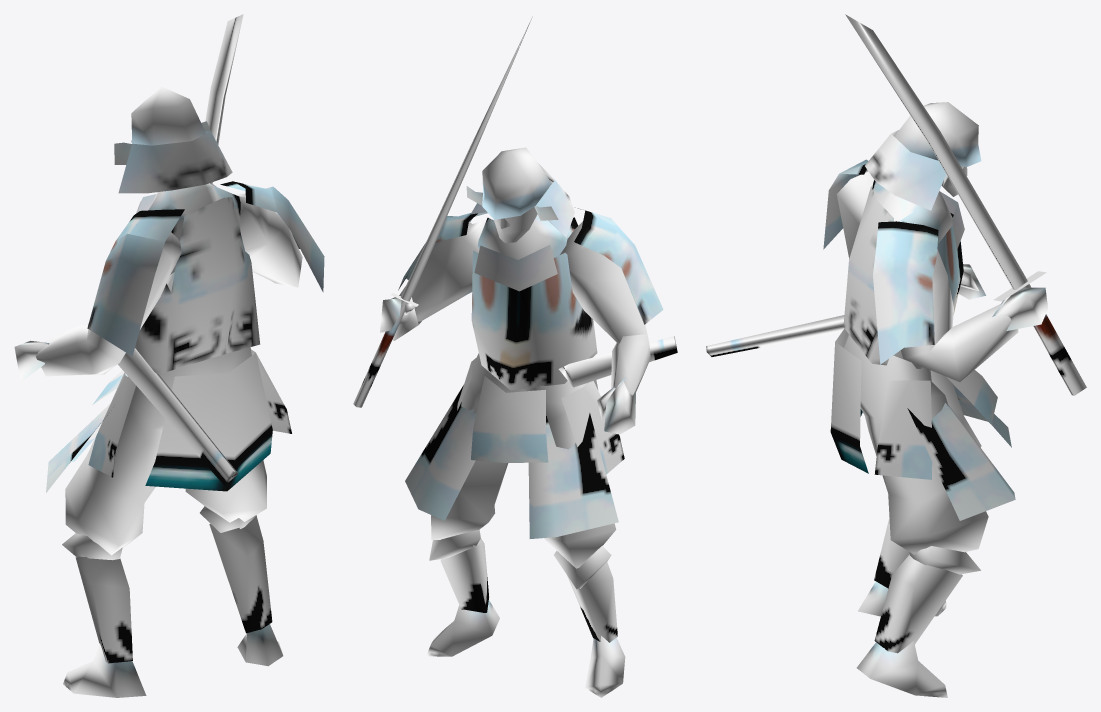
Rendered from static.ico.obj.
3 renders of one model, left to right at view 1: azimuth 30°, elevation 25°; view 2: azimuth 150°, elevation 25°; view 3: azimuth 270°, elevation 25°, orthographic. The views are drawn at different scales.
Bounding box in the file's own units: 2.11 × 4.92 × 2.6.
